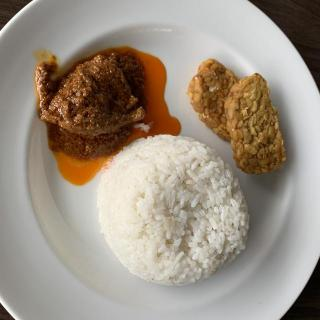Nasi: (99, 133, 250, 287)
